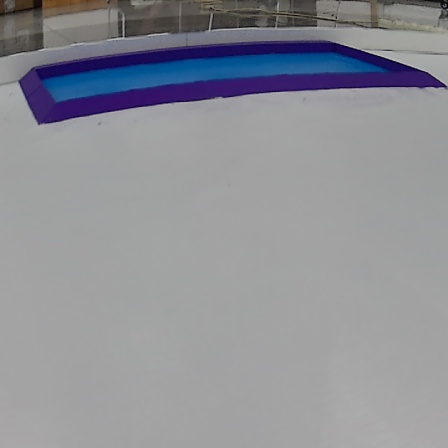blue_aim: (15, 45, 448, 126)
